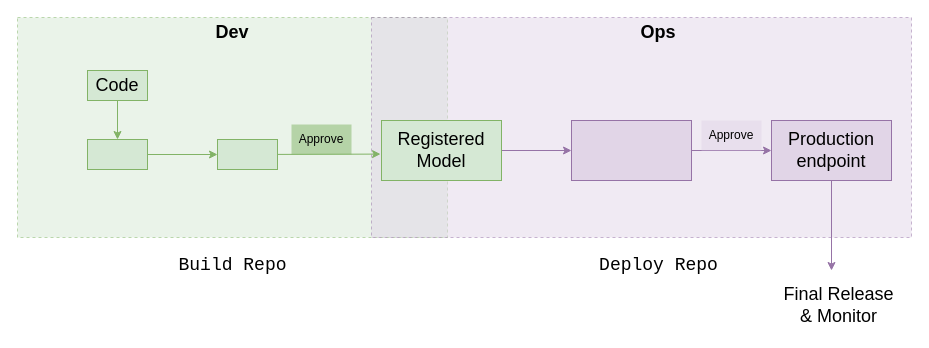
The diagram is 929 pixels wide and 348 high, and some of its shapes have lost their labels. Here are the shapes that lost their labels. From the top down, the centre of each, then its label:
At point (117, 154): "Build".
At point (247, 154): "Model".
At point (631, 150): "Staging endpoint".
